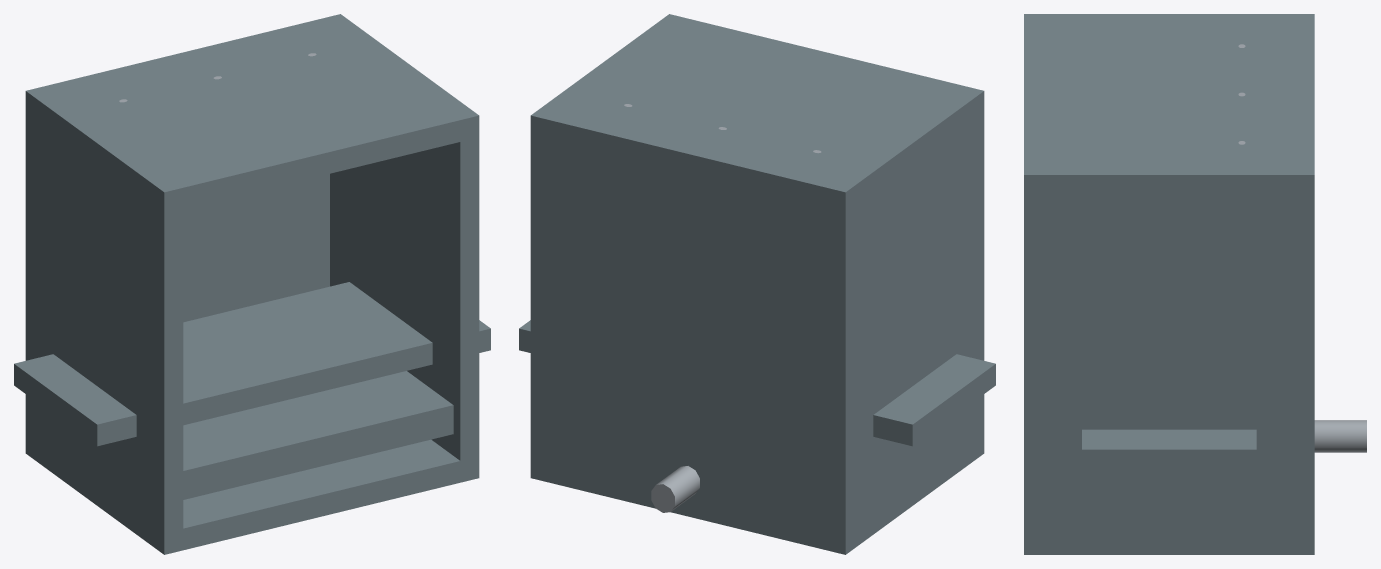
3 renders of one model, left to right at view 1: azimuth 30°, elevation 25°; view 2: azimuth 150°, elevation 25°; view 3: azimuth 270°, elevation 25°, orthographic. The views are drawn at different scales.
Parts seen in each view (by area): view 1: g0.009, g0.003, g0.007, g0, g0.001, g0.006, g0.010; view 2: g0.006, g0.009, g0.003, g0.007, g0.010, g0, g0.008; view 3: g0.007, g0.003, g0, g0.009, g0.006, g0.008.
Boxes of the visible parts, x1,y1,x2,y2 form: g0.009: [25, 86, 183, 554]; g0.003: [53, 25, 460, 212]; g0.007: [322, 14, 479, 482]; g0: [14, 282, 490, 446]; g0.001: [183, 371, 453, 499]; g0.006: [45, 18, 329, 322]; g0.010: [164, 439, 460, 554]; g0.006: [549, 114, 853, 551]; g0.009: [826, 86, 984, 553]; g0.003: [530, 18, 964, 213]; g0.007: [530, 14, 687, 460]; g0.010: [530, 432, 984, 554]; g0: [519, 320, 995, 446]; g0.008: [651, 466, 699, 512]; g0.007: [1024, 165, 1314, 554]; g0.003: [1024, 23, 1298, 194]; g0: [1082, 429, 1256, 472]; g0.009: [1024, 14, 1314, 23]; g0.006: [1297, 23, 1314, 165]; g0.008: [1314, 420, 1366, 452].
Bounding box in the file's own units: 2.5 × 2.2 × 1.8.
